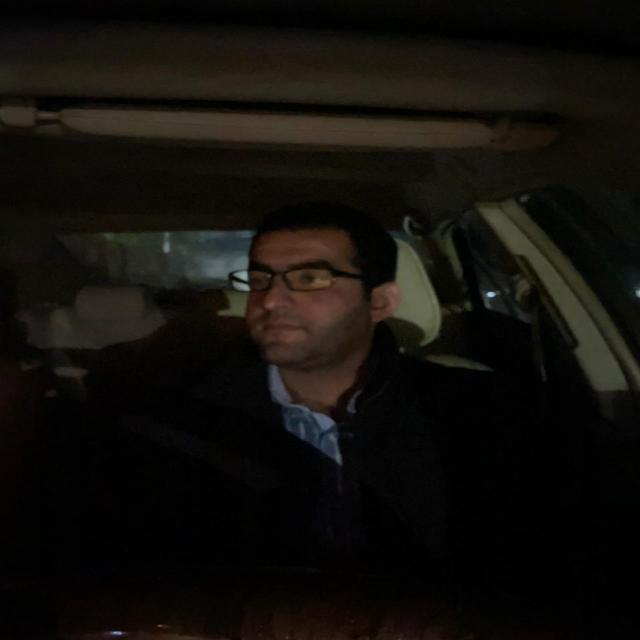person: (239, 214, 391, 363)
